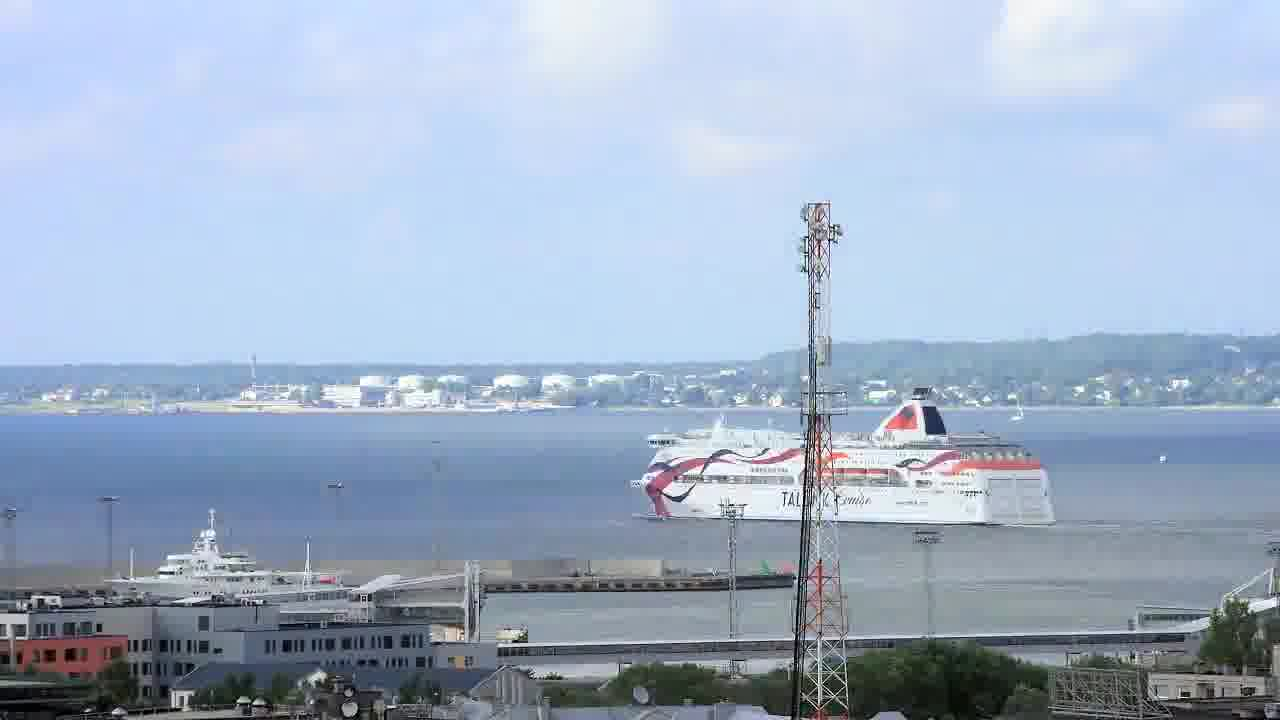type-3: (616, 372, 1067, 538), (96, 508, 381, 605)
